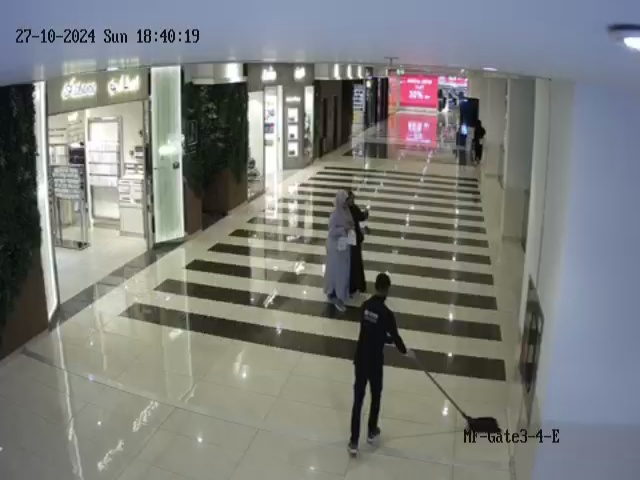female: (323, 190, 356, 313), (346, 191, 368, 294), (472, 120, 486, 164)
male: (347, 271, 408, 457)
